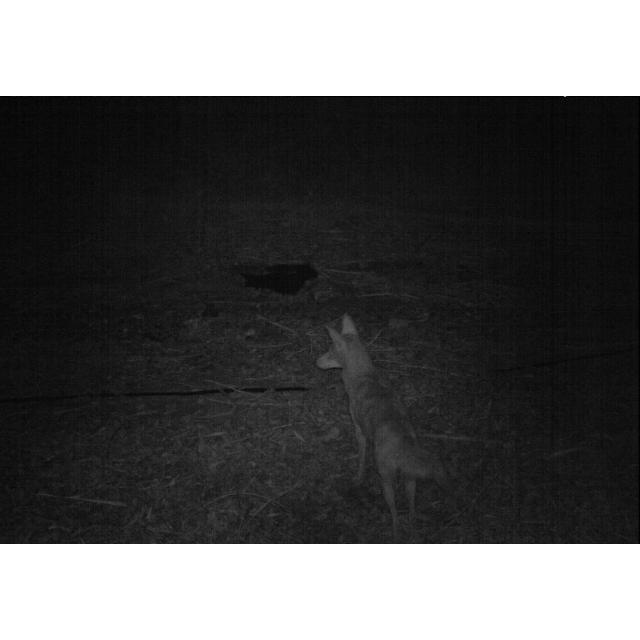animals: (316, 313, 444, 535)
